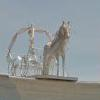Statue: (9, 12, 85, 89)
